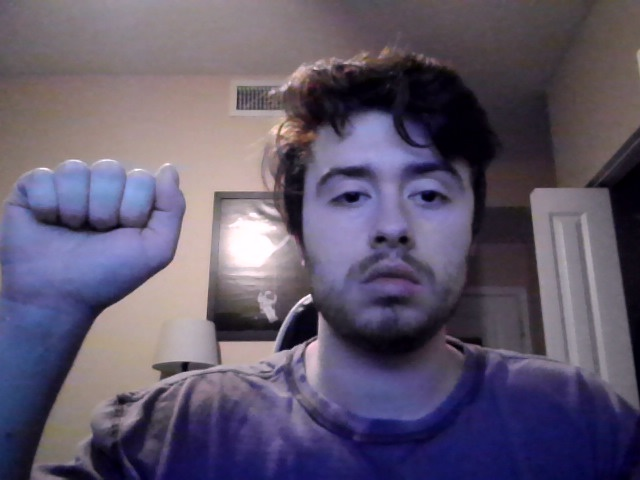a: (1, 157, 187, 313)
